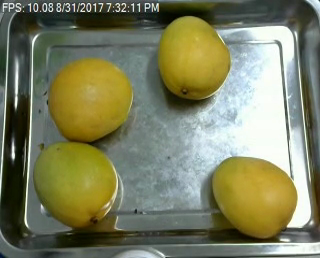Mango: (33, 143, 117, 228), (210, 157, 298, 238), (49, 58, 132, 140), (156, 16, 231, 101)
